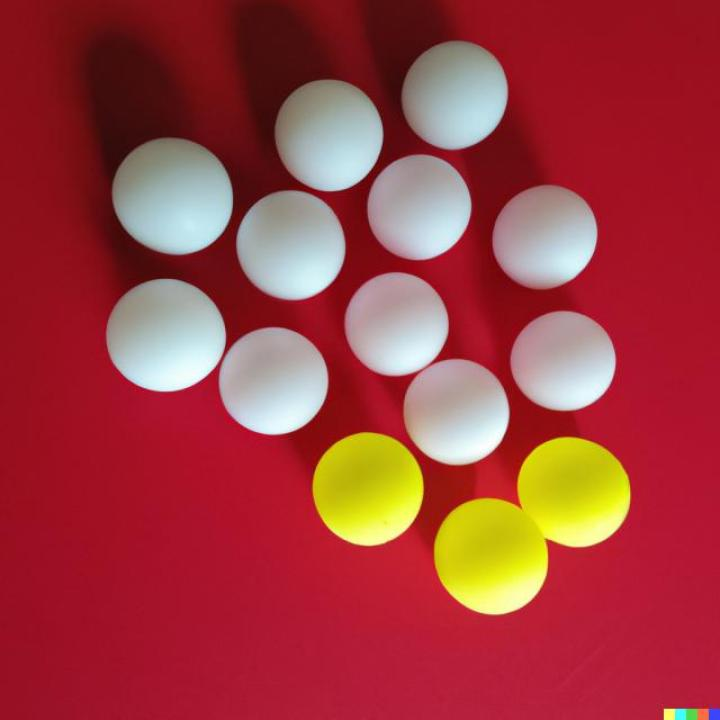white: (114, 139, 232, 256), (107, 280, 226, 392), (236, 189, 346, 301), (275, 79, 384, 191), (400, 40, 508, 151), (218, 328, 328, 436), (404, 358, 511, 466), (344, 270, 450, 378), (368, 155, 474, 262), (490, 185, 598, 290), (509, 309, 617, 413)
